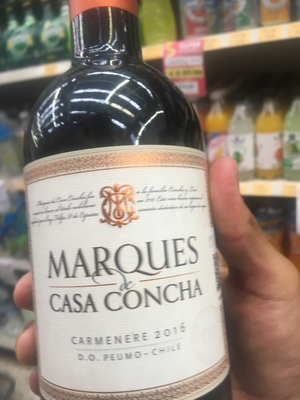marques de casa concha carmenere: (31, 37, 230, 400)
